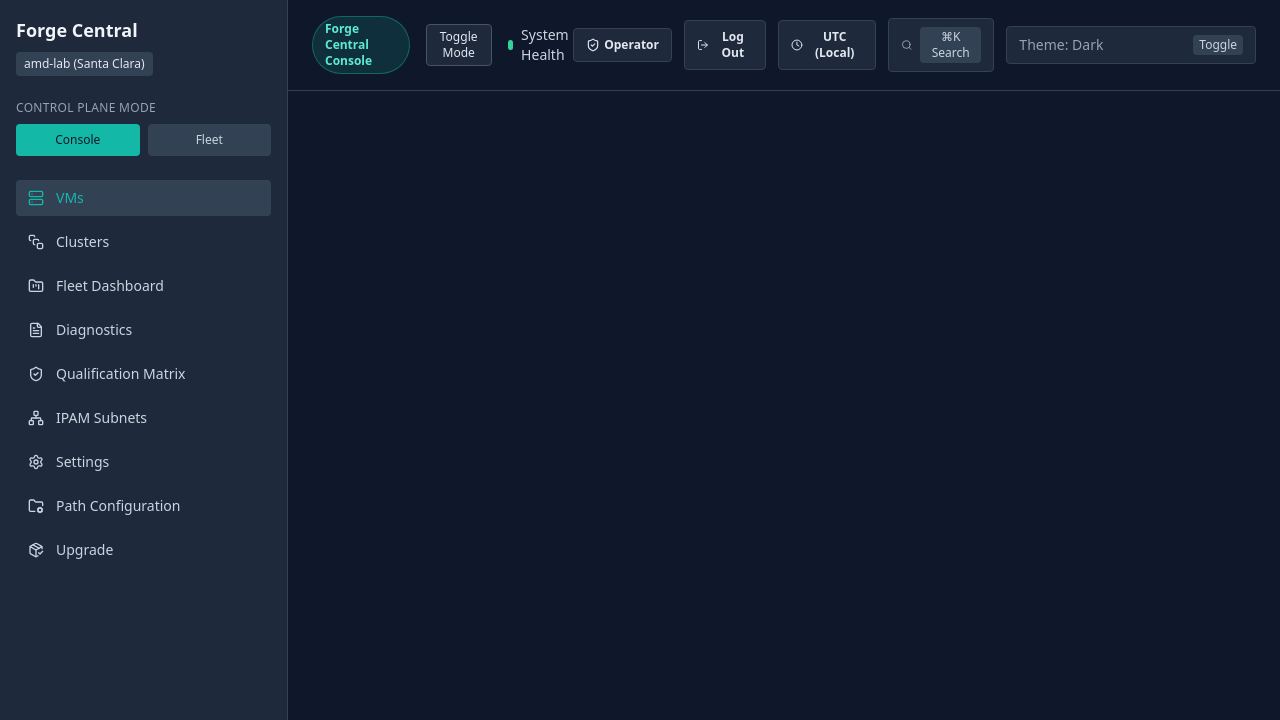
Test: CommandPalette › opens with Ctrl+K, Meta+K and header button
Press k
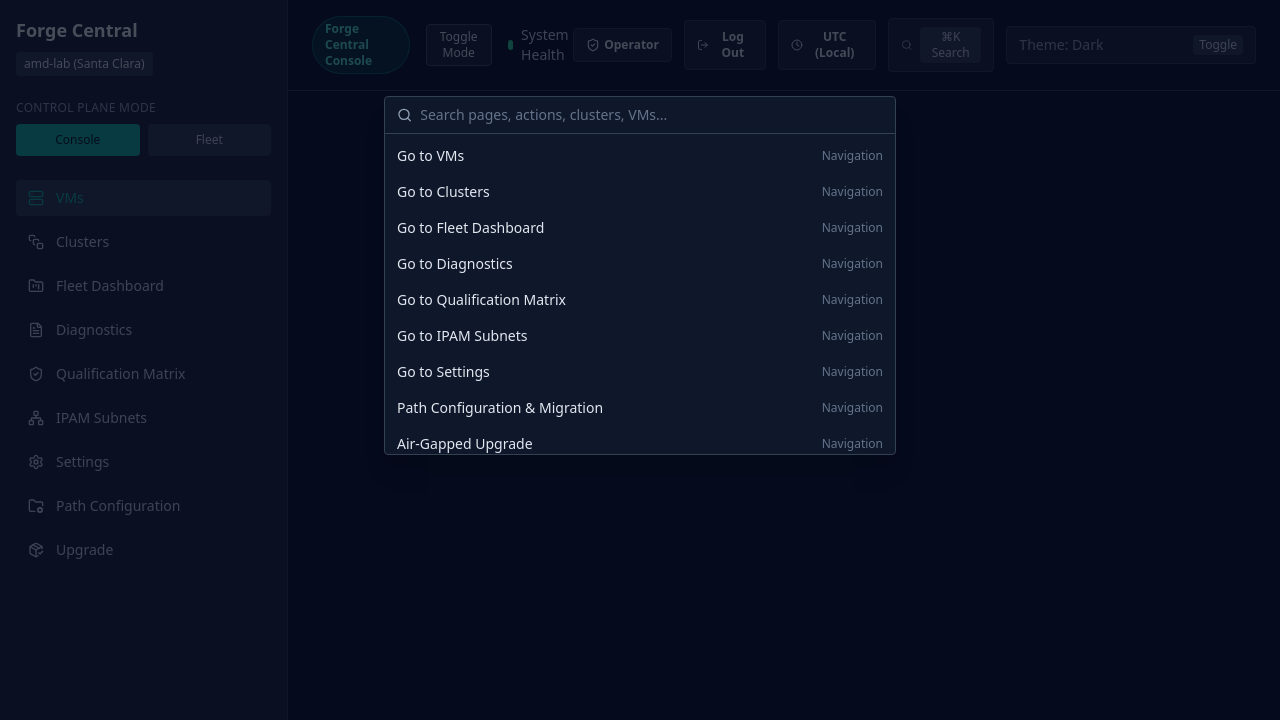
Expected: the dialog with test id "command-palette-modal" is shown, [384,96,896,455]
Press Escape
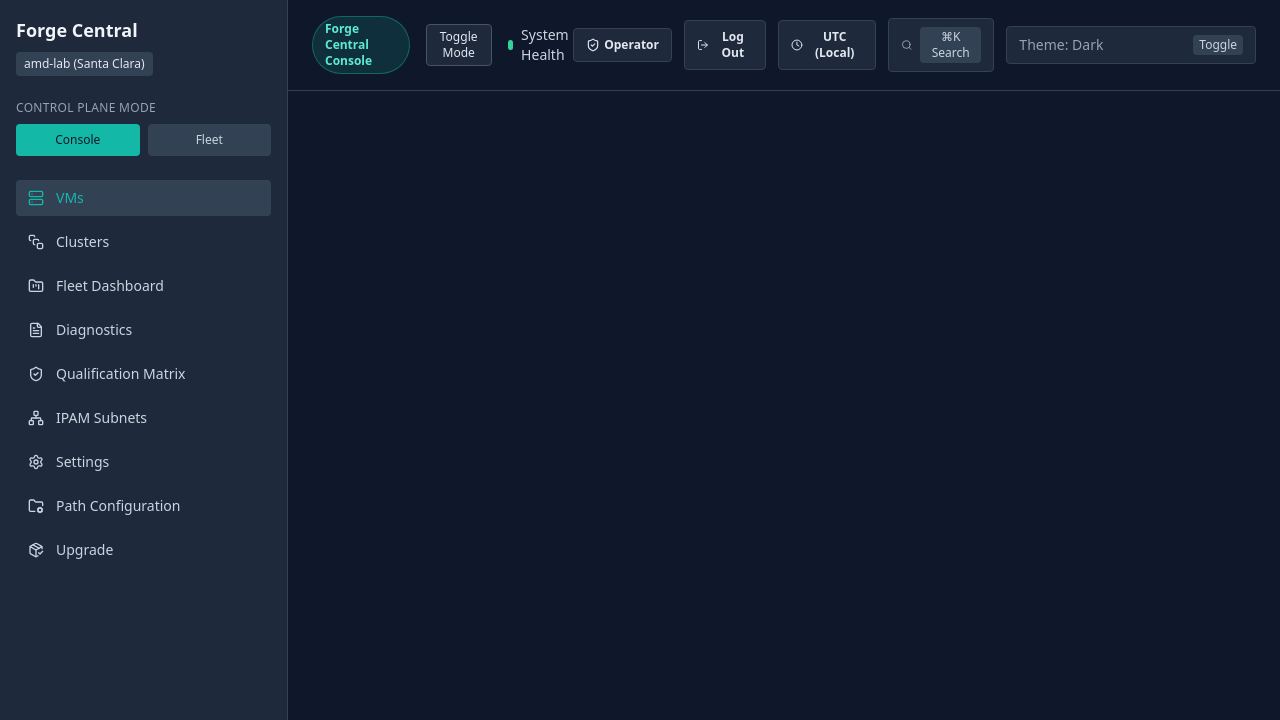
Expected: the dialog with test id "command-palette-modal" is gone
Press k
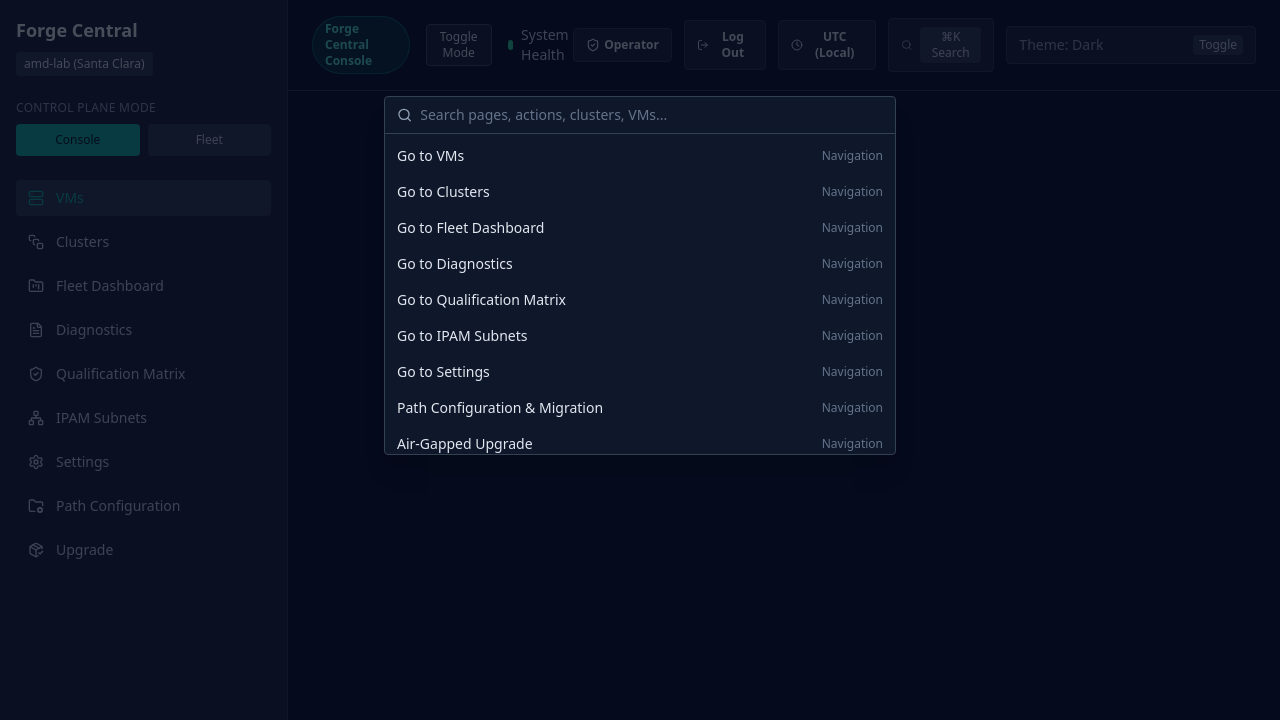
Expected: the dialog with test id "command-palette-modal" is shown, [384,96,896,455]
Press Escape
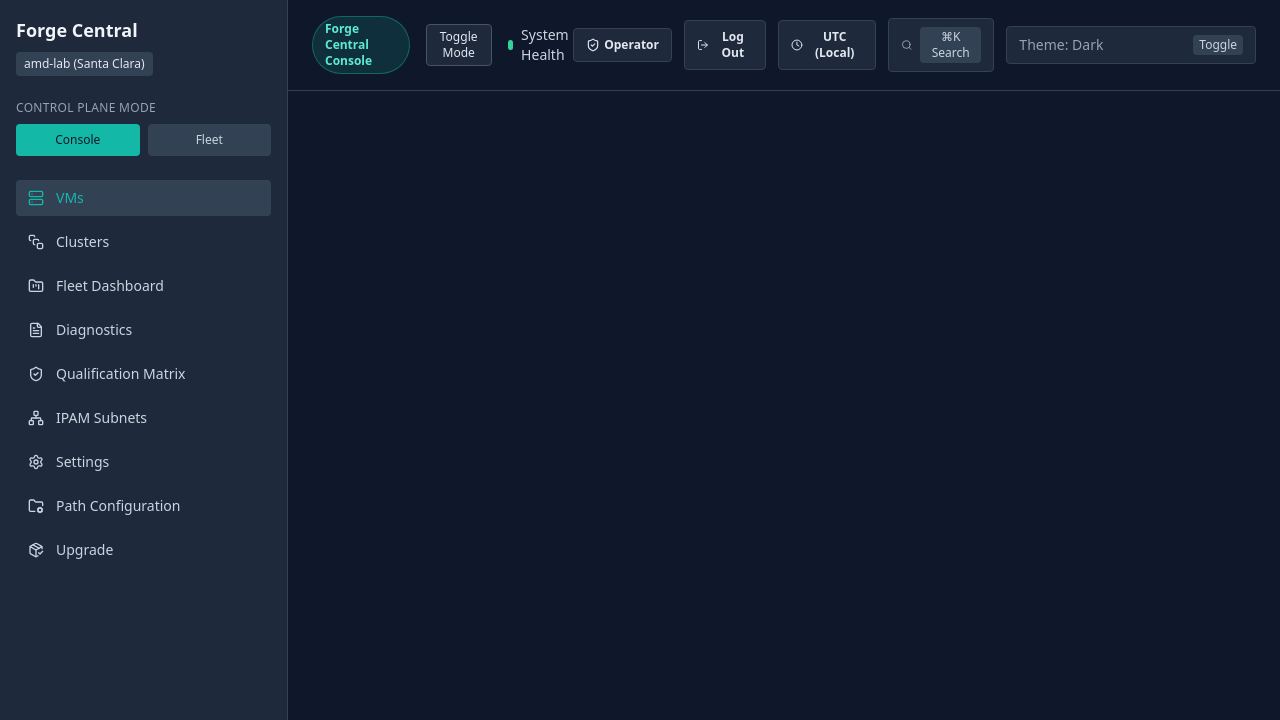
Click the button with test id "btn-open-command-palette". click: (941, 45)
box: [888,18,994,72]
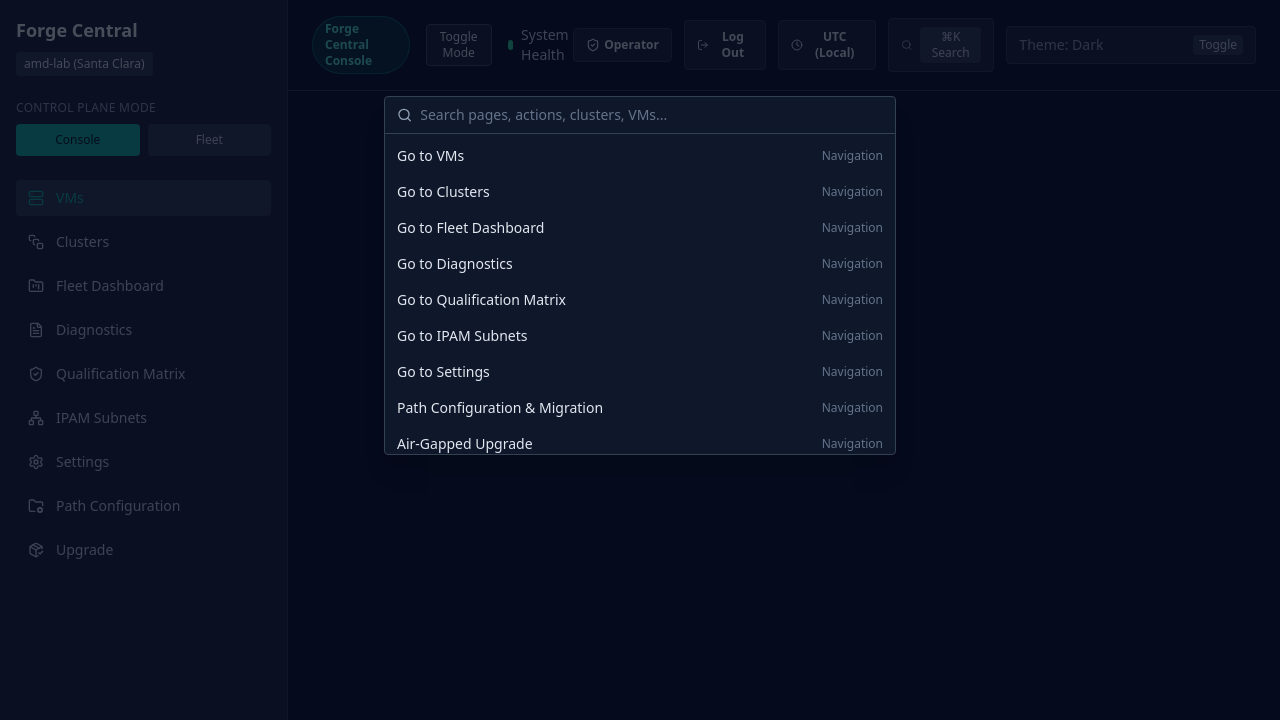
Expected: the dialog with test id "command-palette-modal" is shown, [384,96,896,455]
